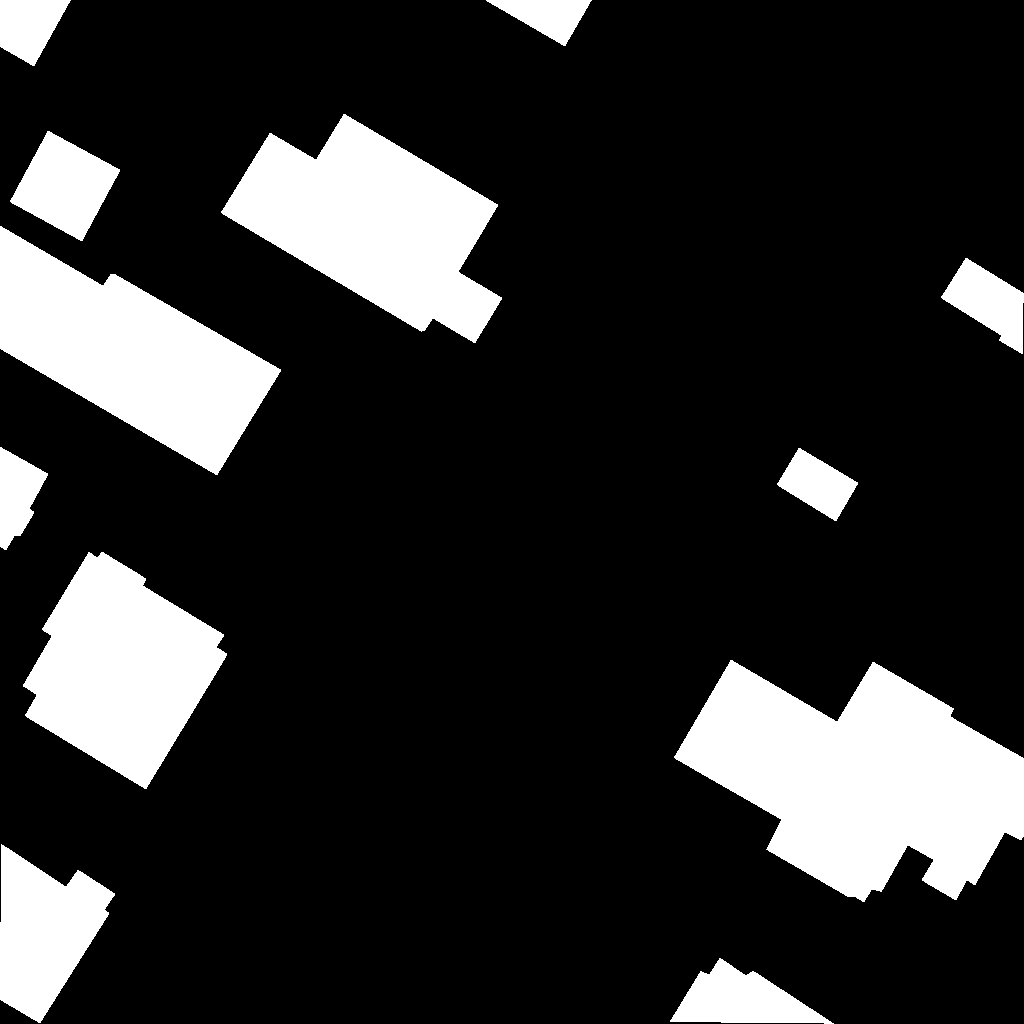building: (674, 660, 1024, 903), (0, 226, 282, 476), (221, 114, 503, 344), (23, 552, 228, 790), (0, 844, 116, 1024), (10, 131, 121, 242), (670, 958, 835, 1024), (941, 258, 1024, 355), (777, 448, 859, 522), (0, 447, 49, 551), (485, 0, 593, 47), (0, 0, 72, 67)
